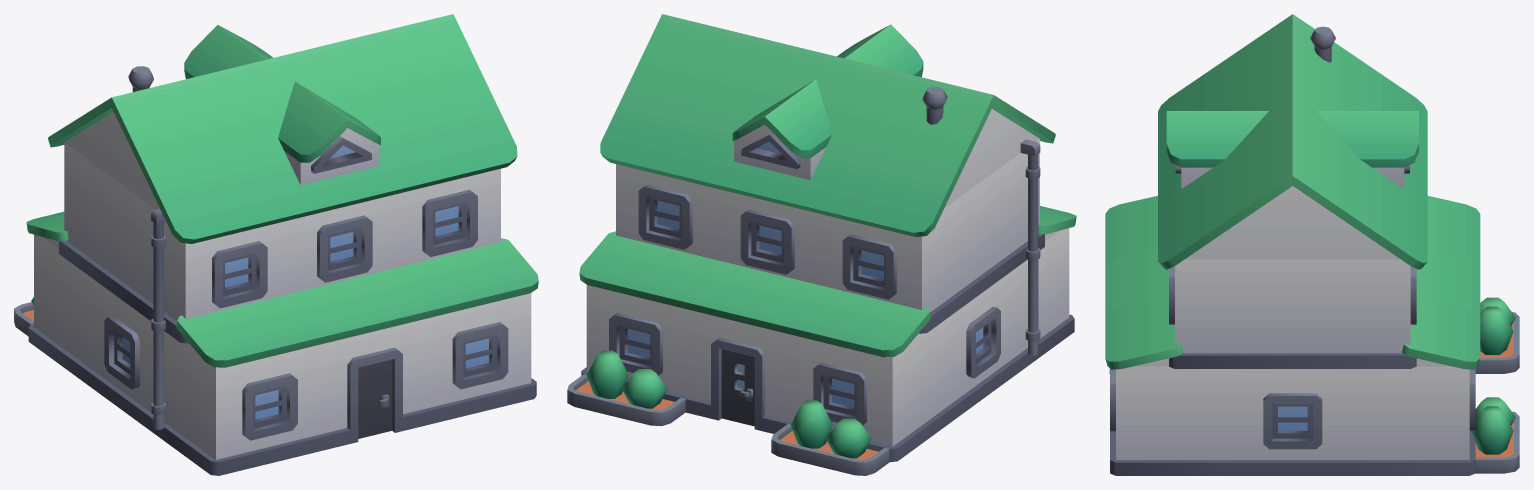
File: building-type-t.glb
3 renders of one model, left to right at view 1: azimuth 30°, elevation 25°; view 2: azimuth 150°, elevation 25°; view 3: azimuth 270°, elevation 25°, orthographic. The views are drawn at different scales.
Visible parts, largest first — view 1: building-type-t; view 2: building-type-t; view 3: building-type-t.
Part boxes in pixels (x1,y1,x2,y2): building-type-t: (14,14,538,475); building-type-t: (567,14,1076,475); building-type-t: (1105,14,1519,475).
Size of the model in its own units: 1.31 by 1.16 by 1.41.
Materials: 1 (1 with a texture image).
